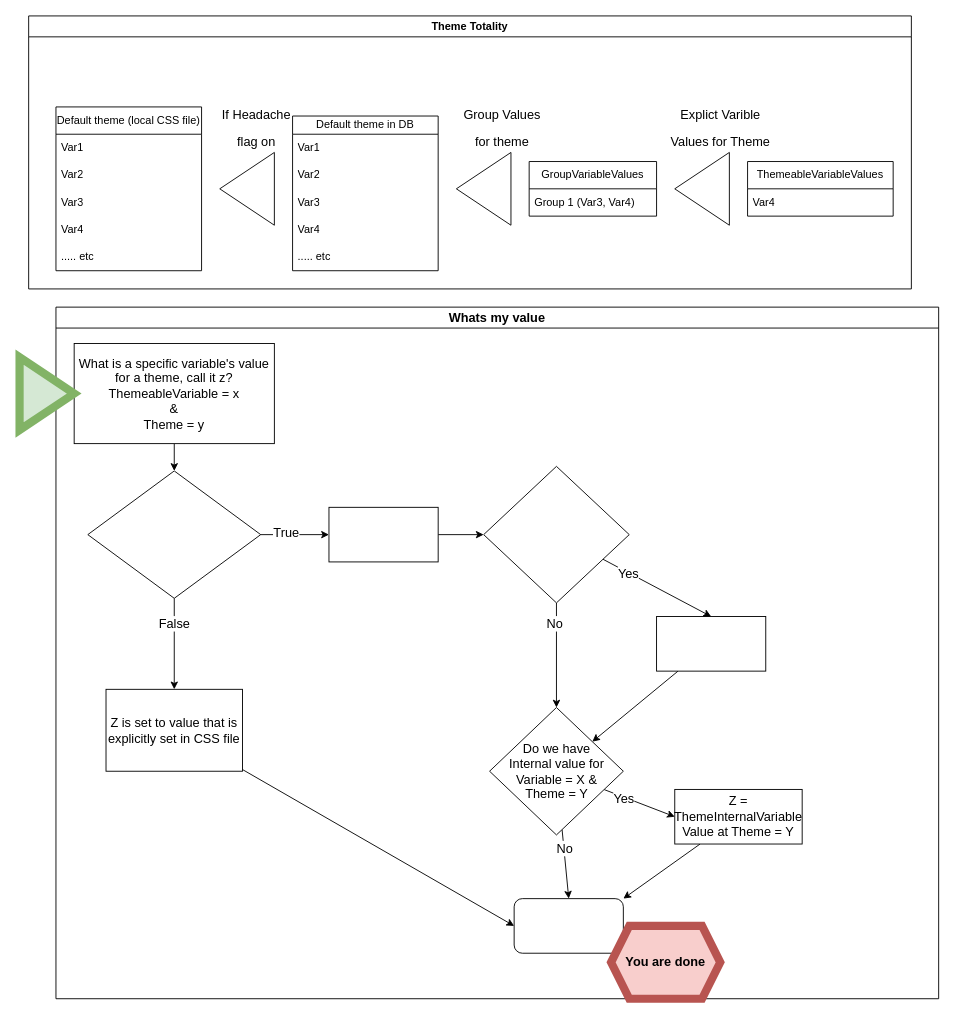
Some shapes in this 955 by 1018 pixel diagram are drawn without their labels. The centre of each missing label's shape, as x and y in pixels:
"Is X contained in Group for Theme = y and Group has value" goes at (x=556, y=534).
"return Z" goes at (x=568, y=925).
"Start Here" goes at (x=46, y=393).
"Status of Feature Flag 'VDS Uses DB Themes'?" goes at (x=174, y=534).
"Z = Group Variable Value" goes at (x=711, y=643).
"Z = Theme = Default at Variable X" goes at (x=383, y=534).
